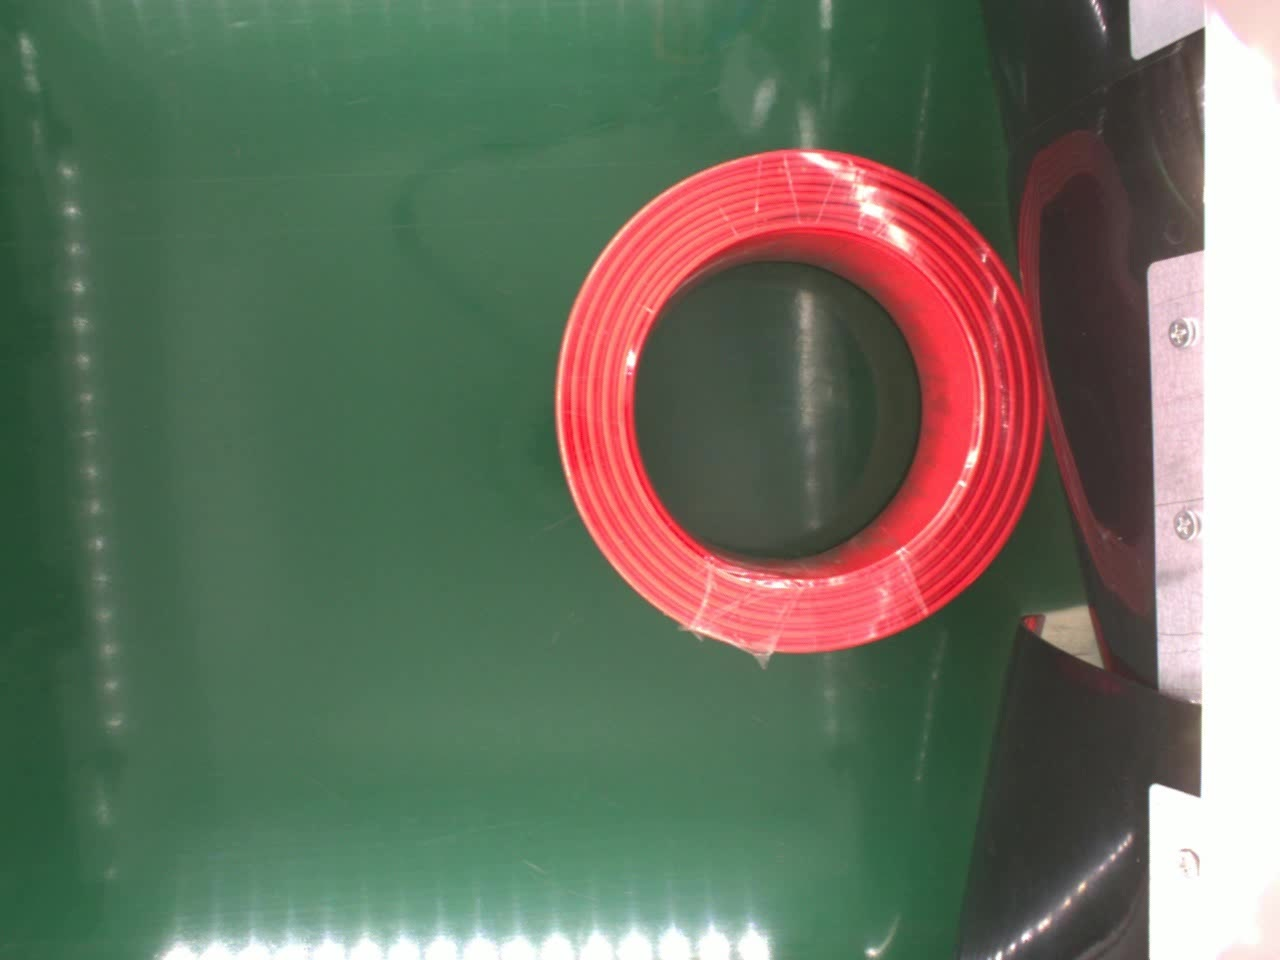red: (551, 142, 1045, 654)
